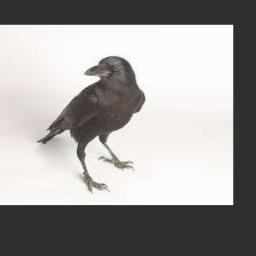Crow: (38, 55, 146, 194)
